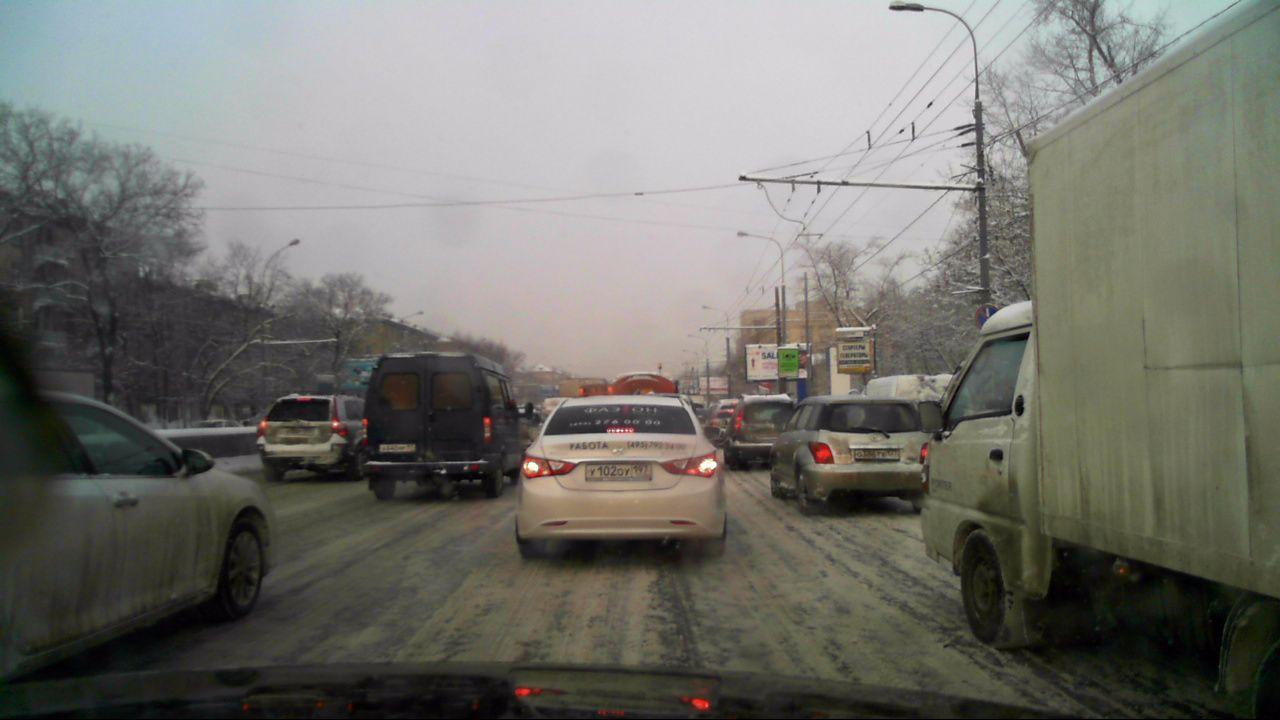3_29: (970, 300, 999, 329)
